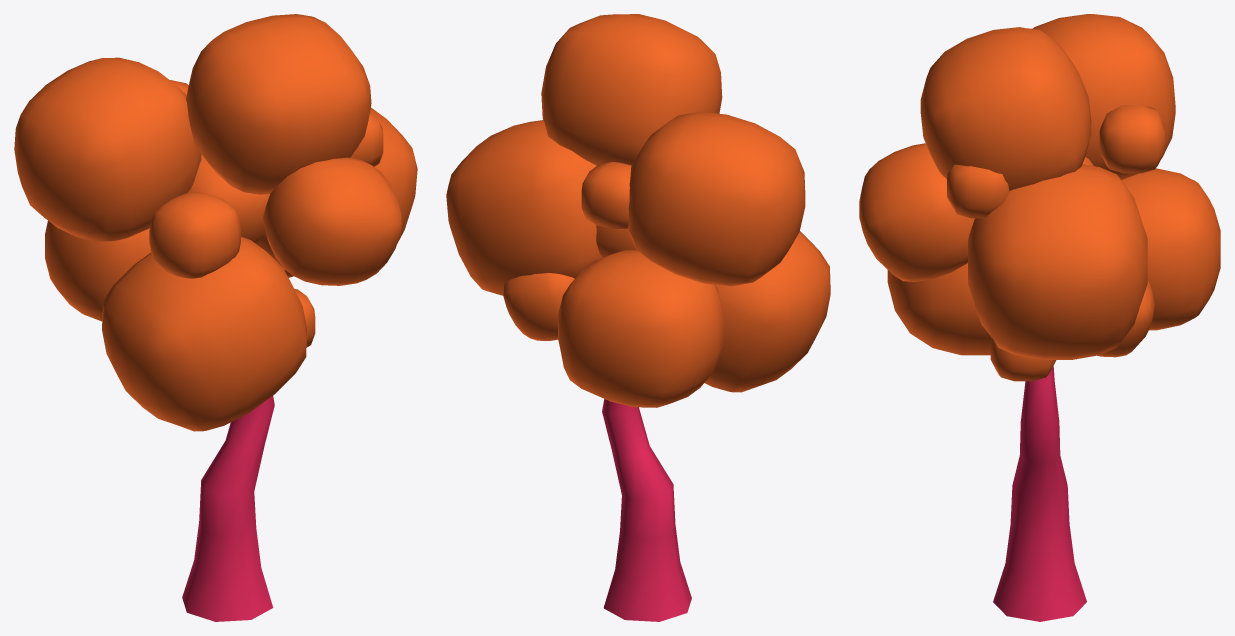
The model's file is tree.fbx.
3 views of the same model, side by side, from view 1: azimuth 30°, elevation 25°; view 2: azimuth 150°, elevation 25°; view 3: azimuth 270°, elevation 25° (orthographic). The views are drawn at different scales.
Visible parts, largest first — view 1: Tree; view 2: Tree; view 3: Tree.
Part boxes in pixels (bbox=[...]): Tree: bbox=[14, 14, 417, 621]; Tree: bbox=[446, 14, 830, 621]; Tree: bbox=[859, 14, 1220, 621].
Size of the model in its own units: 104 by 161 by 91.27.
